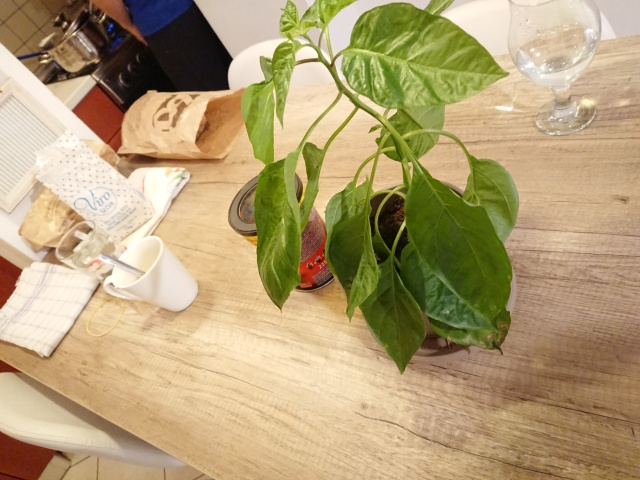Nescafe Classic 225g: (225, 166, 349, 295)
